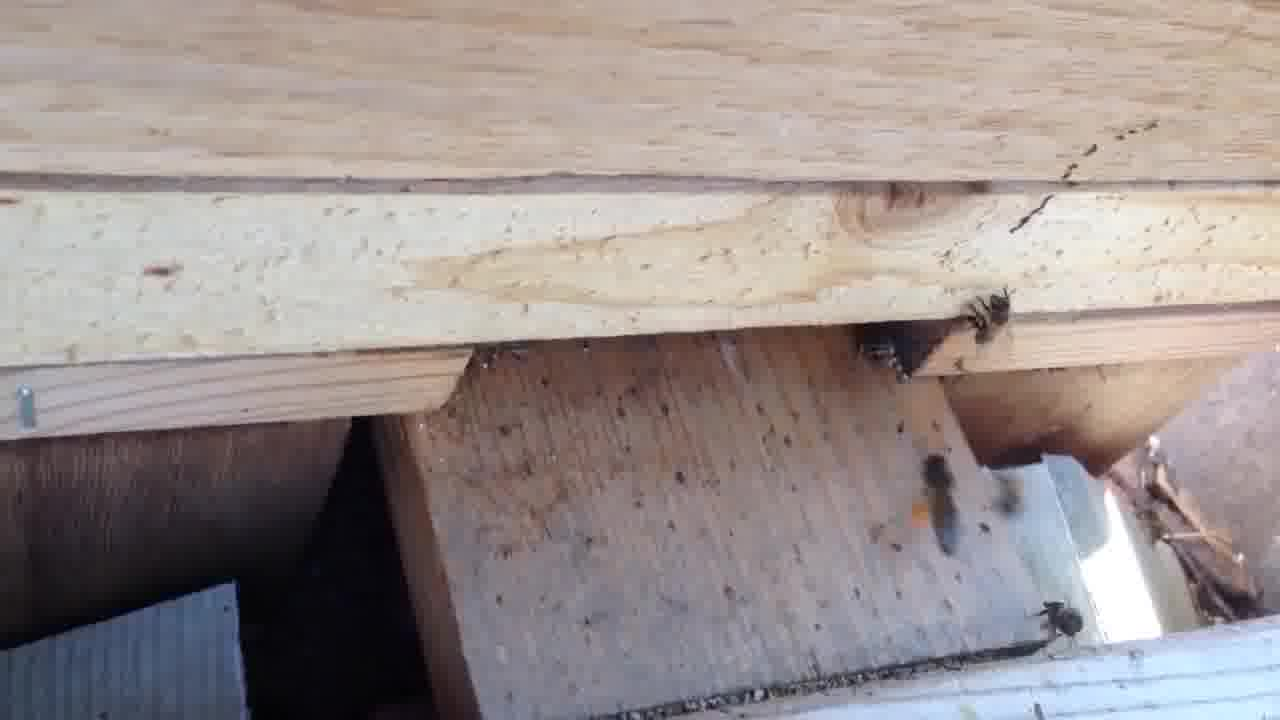pollen: (905, 444, 969, 560)
